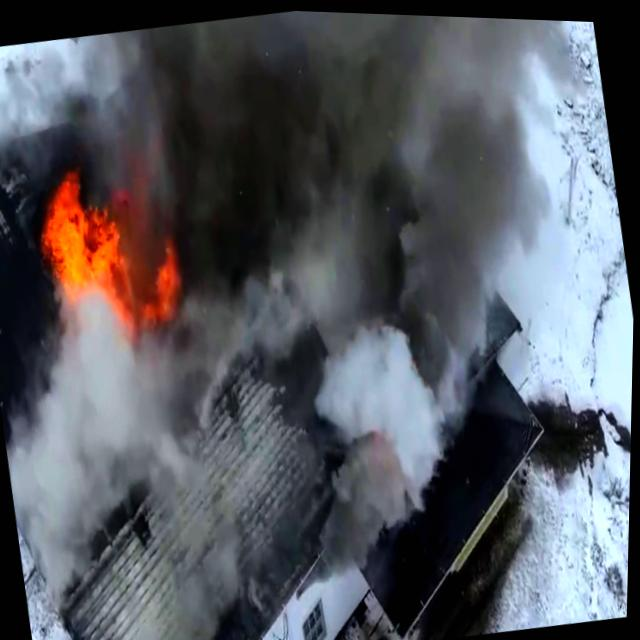fire: (28, 135, 187, 340)
smoke: (223, 7, 521, 275)
